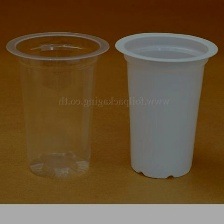glass: (4, 30, 114, 185), (115, 30, 221, 183)
